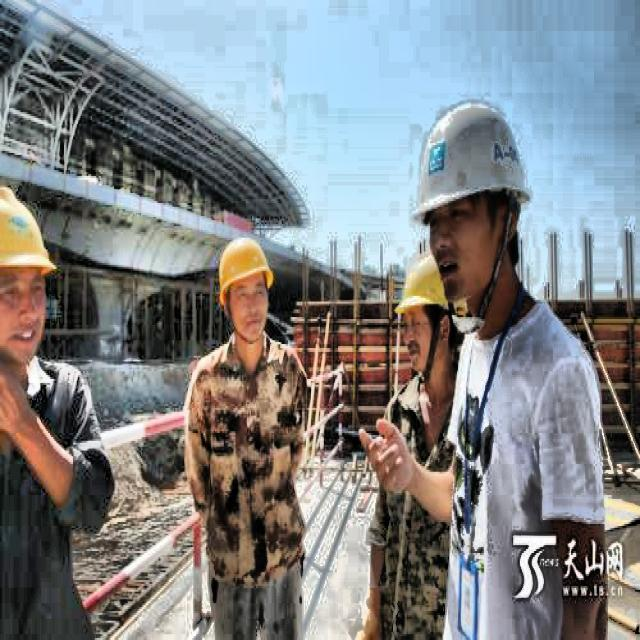helmet: (416, 97, 526, 309), (1, 176, 58, 367), (397, 247, 466, 381), (218, 230, 274, 342)
